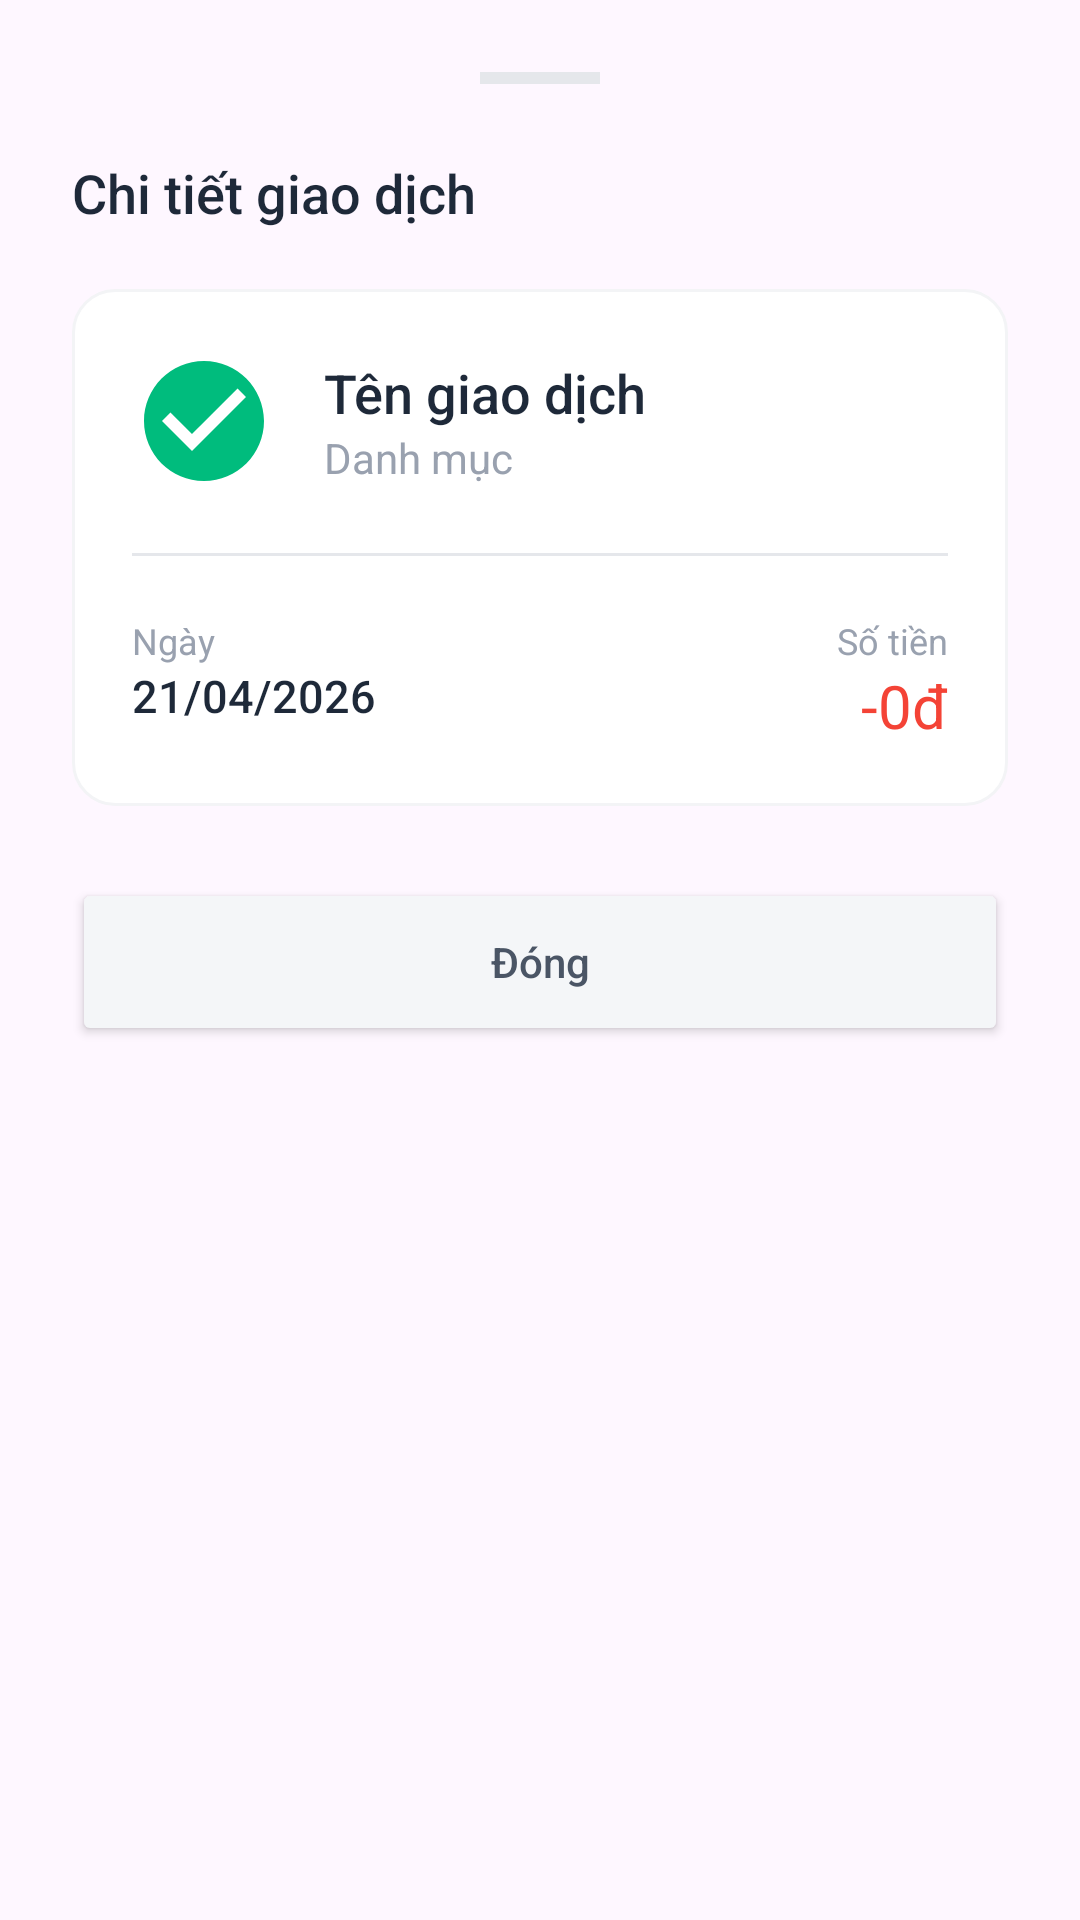

Icons on this 1080px x 1920px Android screen, each with its box as [x1,y1,x2,y2]:
toast check: [144,361,264,481]
